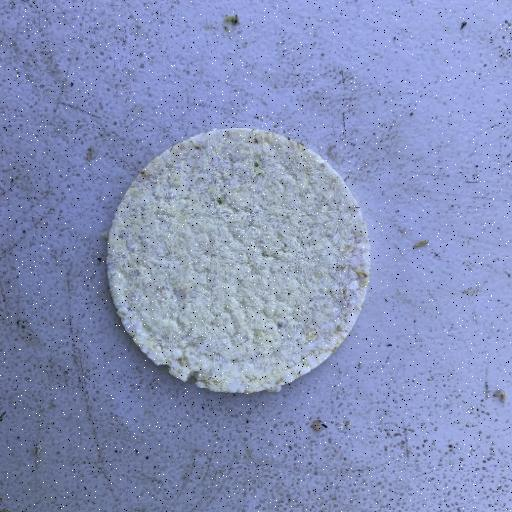Waste: (104, 126, 372, 396)
